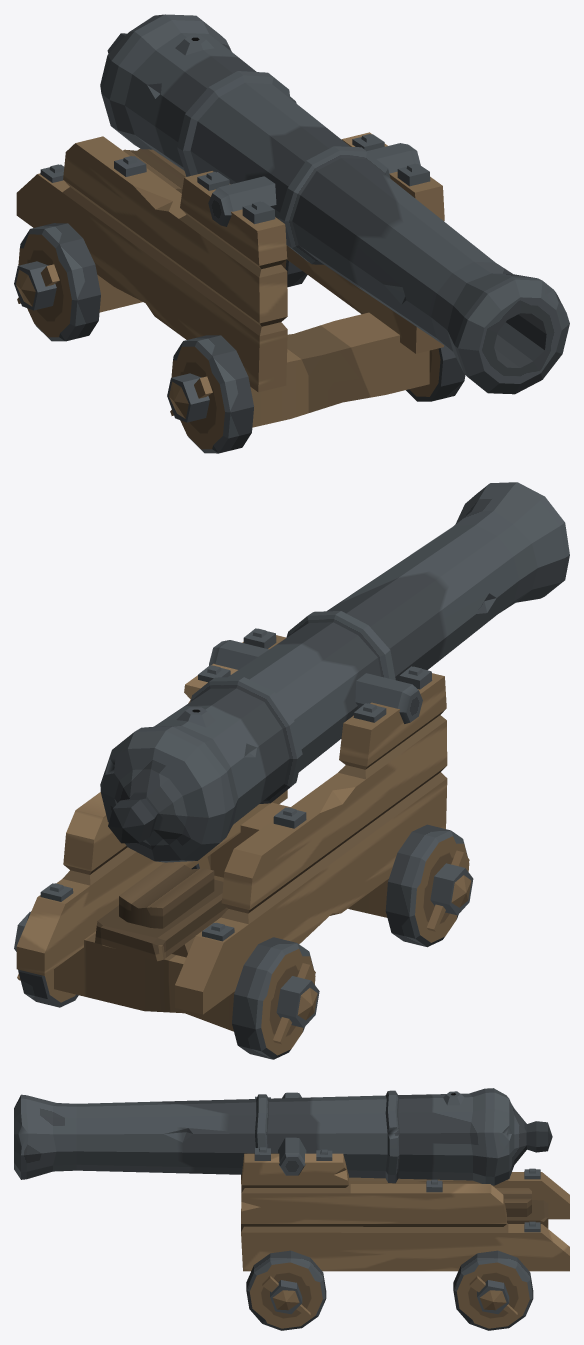
The model's file is SM_Wep_Cannon_06.fbx.
3 renders of one model, top to bottom at view 1: azimuth 30°, elevation 25°; view 2: azimuth 150°, elevation 25°; view 3: azimuth 270°, elevation 25°, orthographic. The views are drawn at different scales.
Visible parts, largest first — view 1: SM_Wep_Cannon_06, SM_Wep_Cannon_06_Wheel_F, SM_Wep_Cannon_06_Wheel_R; view 2: SM_Wep_Cannon_06, SM_Wep_Cannon_06_Wheel_R, SM_Wep_Cannon_06_Wheel_F; view 3: SM_Wep_Cannon_06, SM_Wep_Cannon_06_Wheel_F, SM_Wep_Cannon_06_Wheel_R.
Part boxes in pixels (x1,y1,x2,y2): SM_Wep_Cannon_06: (16, 14, 569, 427); SM_Wep_Cannon_06_Wheel_F: (167, 335, 465, 453); SM_Wep_Cannon_06_Wheel_R: (14, 223, 307, 341); SM_Wep_Cannon_06: (16, 482, 569, 1031); SM_Wep_Cannon_06_Wheel_R: (14, 911, 319, 1059); SM_Wep_Cannon_06_Wheel_F: (191, 824, 473, 947); SM_Wep_Cannon_06: (14, 1088, 569, 1271); SM_Wep_Cannon_06_Wheel_F: (246, 1250, 326, 1330); SM_Wep_Cannon_06_Wheel_R: (453, 1250, 533, 1330).
Bounding box in the file's own units: 98.86 × 95.99 × 243.
